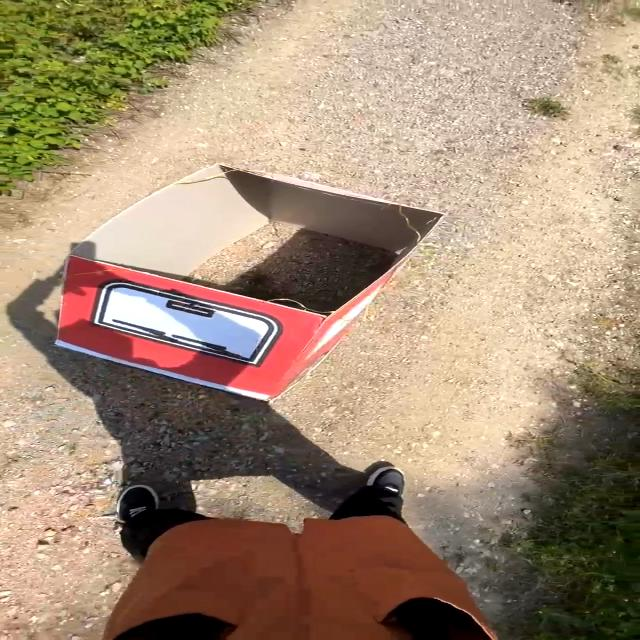red_car: (23, 148, 468, 415)
